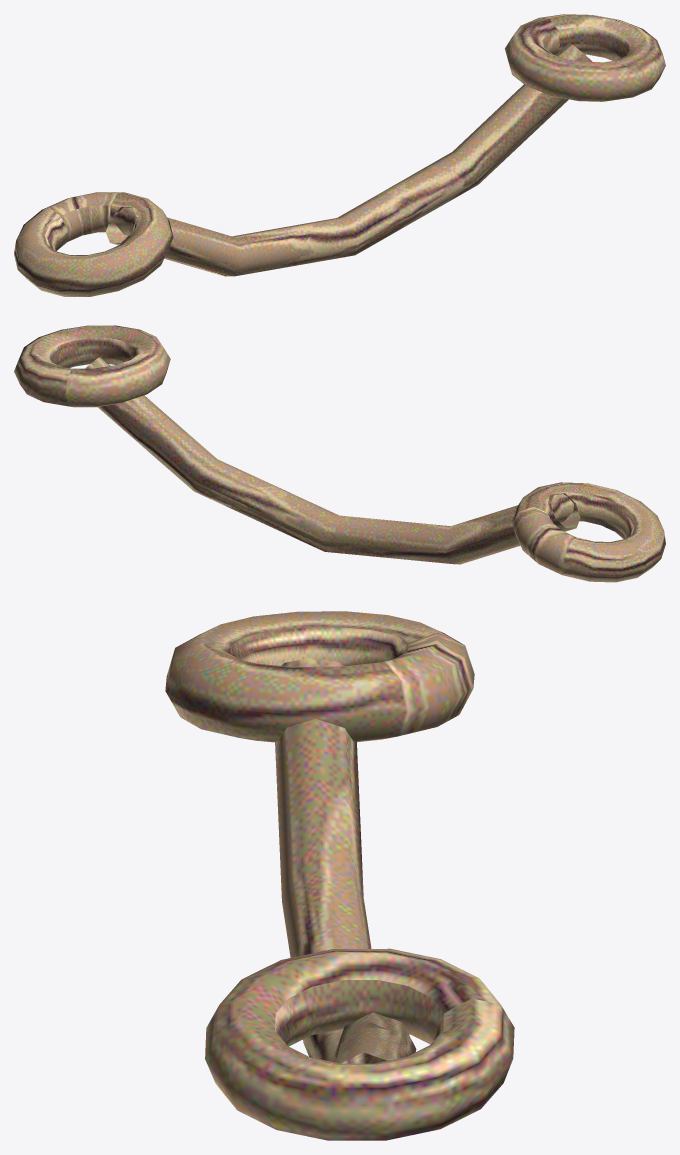
Rendered from SlapBros_Beach_rope_2.fbx.
The picture shows the model from 3 angles, top to bottom: view 1: azimuth 30°, elevation 25°; view 2: azimuth 150°, elevation 25°; view 3: azimuth 270°, elevation 25°; orthographic projection. The views are drawn at different scales.
Visible parts, largest first — view 1: SlapBros_Beach_rope_2; view 2: SlapBros_Beach_rope_2; view 3: SlapBros_Beach_rope_2.
Part boxes in pixels (box(x1,y1,x2,y2)): SlapBros_Beach_rope_2: box(14, 14, 665, 296); SlapBros_Beach_rope_2: box(14, 325, 665, 582); SlapBros_Beach_rope_2: box(165, 611, 514, 1140).
Size of the model in its own units: 5.85 by 1.39 by 1.43.
